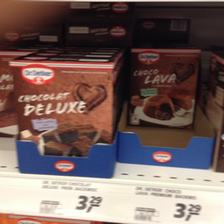cake: (8, 54, 116, 176), (126, 46, 204, 133)
